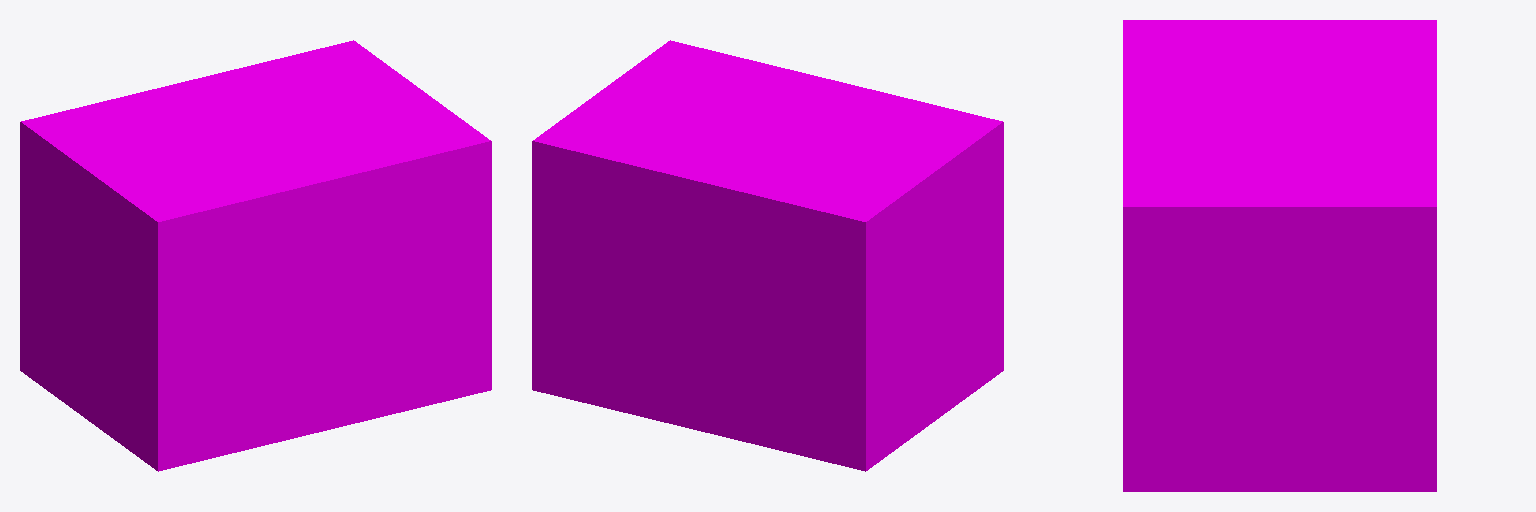
robot.urdf — block_pink:
<?xml version="1.0"?>
<robot name="block_pink">
  <link name="base_link">
    <contact>
      <lateral_friction value="0.7"/>
      <spinning_friction value="0.005"/>
    </contact>
    <inertial>
      <origin rpy="0 0 0" xyz="0 0 0"/>
      <mass value="1"/>
      <inertia ixx="1" ixy="0" ixz="0" iyy="1" iyz="0" izz="1"/>
    </inertial>
    <visual>
      <origin rpy="0 0 0" xyz="0.0 0.0 0.0"/>
      <geometry>
        <box size="0.07 0.05 0.05"/>
      </geometry>
      <material name="purple">
        <color rgba="1 0 1 1"/>
      </material>
    </visual>
    <collision>
      <origin rpy="0 0 0" xyz="0.0 0.0 0.0"/>
      <geometry>
        <box size="0.07 0.05 0.05"/>
      </geometry>
    </collision>
  </link>
</robot>

--- What the picture shows (computed from the rendered views, not written in the file) ---
The picture shows the robot from 3 angles, left to right: view 1: azimuth 30°, elevation 25°; view 2: azimuth 150°, elevation 25°; view 3: azimuth 270°, elevation 25°; orthographic projection.
Robot: block_pink — 1 links, 0 joints (none); root link base_link; default pose: every joint at zero.
Visible links, largest first — view 1: base_link; view 2: base_link; view 3: base_link.
Boxes of the visible links, x1,y1,x2,y2 form: base_link: (20, 40, 491, 471); base_link: (532, 40, 1003, 471); base_link: (1123, 20, 1436, 491).
Bounding box of the posed robot: 0.07 × 0.05 × 0.05 m (x, y, z).
Geometry: primitives only (box / cylinder / sphere), no mesh files.